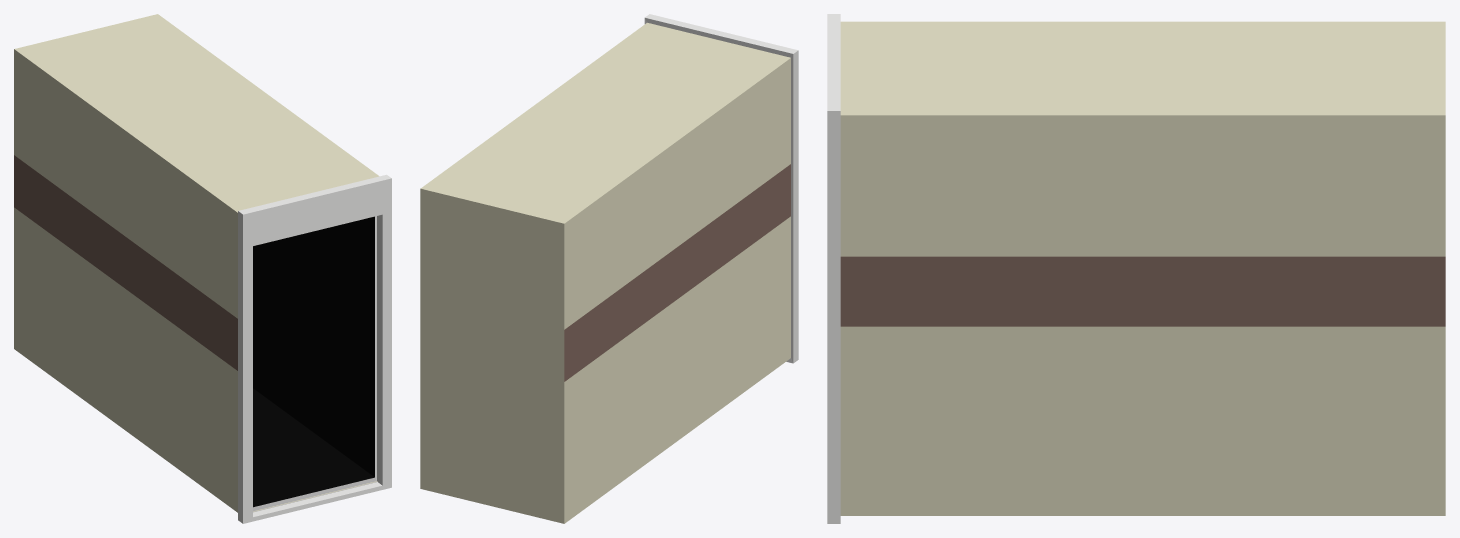
Rendered from Blackroom2.fbx.
The picture shows the model from 3 angles, left to right: view 1: azimuth 30°, elevation 25°; view 2: azimuth 150°, elevation 25°; view 3: azimuth 270°, elevation 25°; orthographic projection. The views are drawn at different scales.
Visible parts, largest first — view 1: pasted__BlackRoom; view 2: pasted__BlackRoom; view 3: pasted__BlackRoom.
Boxes of the visible parts, x1=… form: pasted__BlackRoom: x1=14, y1=14, x2=391, y2=523; pasted__BlackRoom: x1=420, y1=14, x2=798, y2=523; pasted__BlackRoom: x1=827, y1=14, x2=1445, y2=523.
Size of the model in its own units: 186 by 369 by 501.
